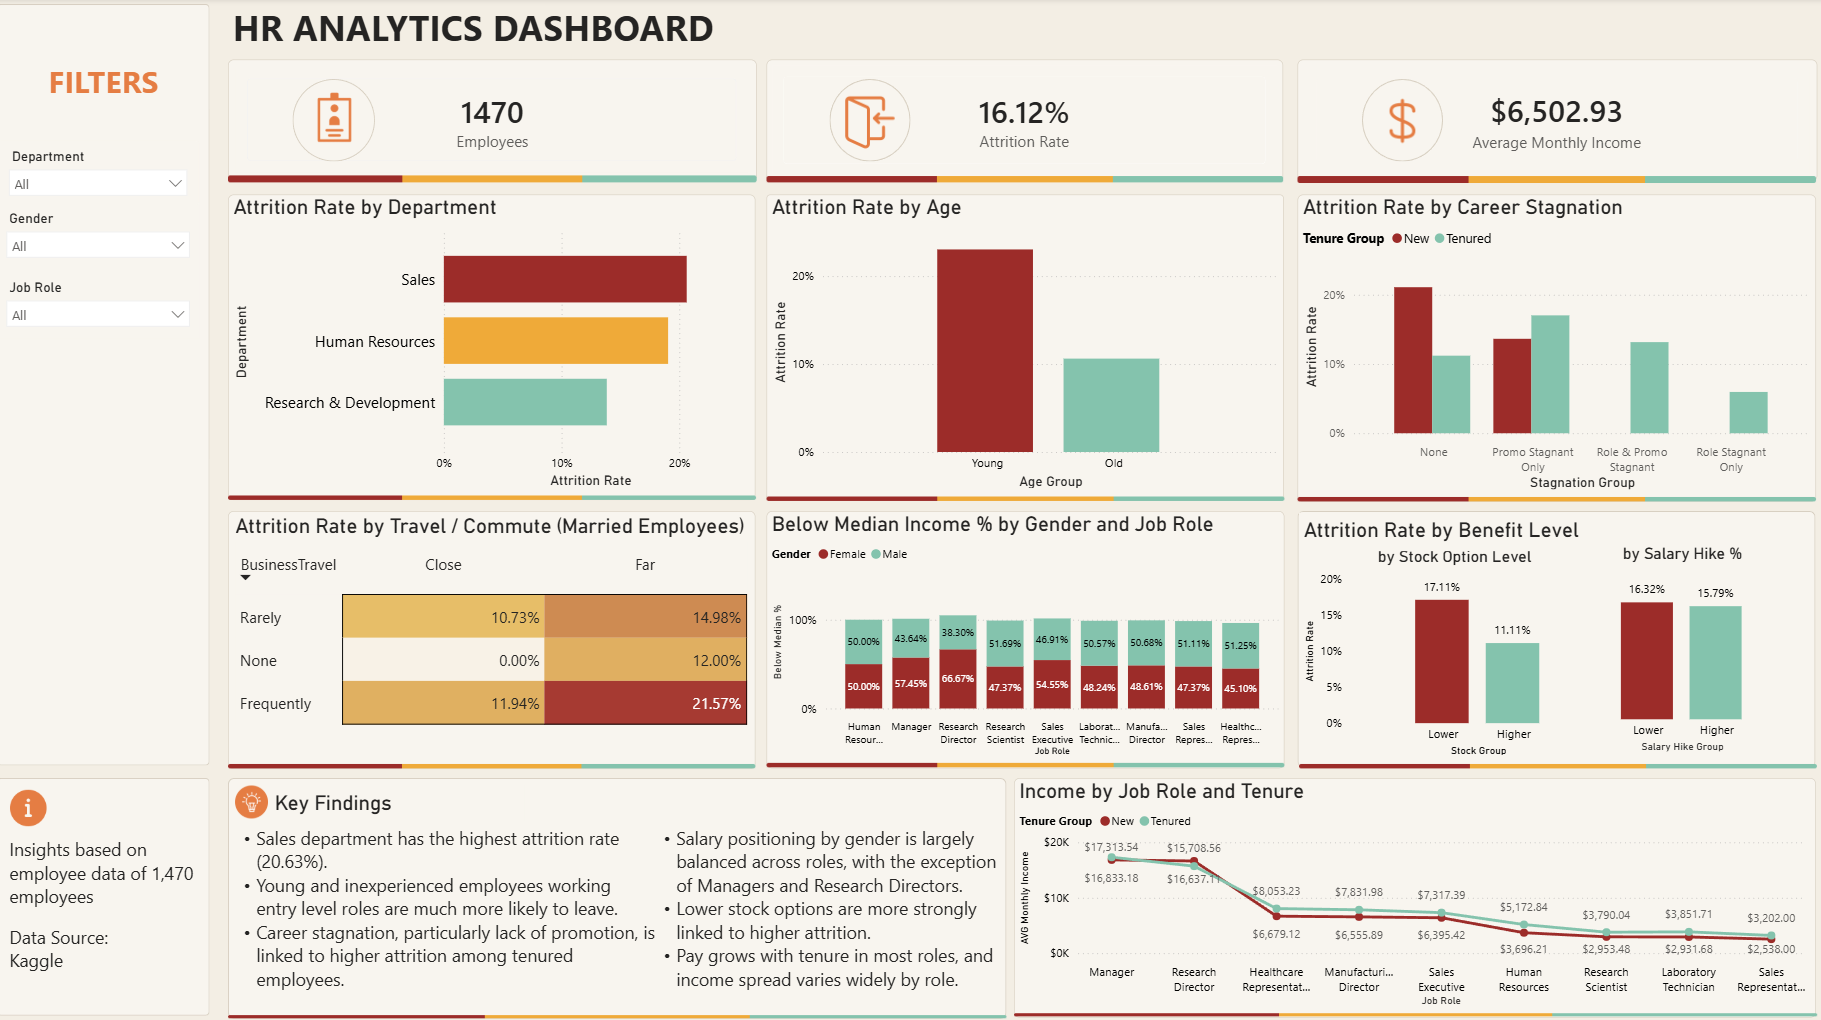

The dashboard page shown, as its layout file describes it:
{"tool":"powerbi","page":{"name":"Page 1","canvas":[1920,1080],"ordinal":0},"visuals":[{"type":"shape","box":[0,6.4,223.6,800.9],"z":0},{"type":"cardVisual","fields":{"Data":["Avg(HR.MonthlyIncome)"]},"box":[1367.2,64.4,546.6,128],"z":0,"group":"g14"},{"type":"cardVisual","title":"Total Employees","fields":{"Data":["HR.Total Employees"]},"box":[242.9,64.7,556,128],"z":0,"group":"g7"},{"type":"cardVisual","fields":{"Data":["HR.Attrition Rate"]},"box":[809.2,64.7,543,128.5],"z":0,"group":"g6"},{"type":"shape","box":[875.5,85.2,85.2,86.8],"z":0,"group":"g18"},{"type":"shape","box":[1435.5,85.2,85.2,86.8],"z":0,"group":"g19"},{"type":"group","id":"g1","title":"Group 4","box":[243.6,206.6,554.5,321.3],"z":0,"group":"g10"},{"type":"clusteredBarChart","title":"Attrition Rate by Department","fields":{"Category":["HR.Department"],"Y":["HR.Attrition Rate"]},"box":[243.6,206.6,554.5,321.3],"z":0,"group":"g1"},{"type":"group","id":"g2","title":"Group 5","box":[1367.8,206.6,545.6,323.1],"z":0,"group":"g11"},{"type":"clusteredColumnChart","title":"Attrition Rate by Career Stagnation","fields":{"Y":["HR.Attrition Rate"],"Series":["HR.Tenure Group"],"Category":["HR.Stagnation Group"]},"box":[1367.8,206.6,545.6,323.1],"z":0,"group":"g2"},{"type":"group","id":"g3","title":"Group 8","box":[243.1,539.5,554.7,271.4],"z":0,"group":"g8"},{"type":"pivotTable","title":"Attrition Rate by Travel / Commute (Married Employees)","fields":{"Values":["HR.Attrition Rate"],"Columns":["HR.Commute Group"],"Rows":["HR.BusinessTravel"]},"box":[243.1,539.5,554.7,271.4],"z":0,"group":"g3"},{"type":"group","id":"g4","title":"Group 6","box":[1367.6,539.5,544.8,269.7],"z":0,"group":"g9"},{"type":"shape","box":[1367.6,539.5,544.8,269.7],"z":0,"group":"g4"},{"type":"group","id":"g5","title":"Group 7","box":[1069.1,820,843.1,252.3],"z":0,"group":"g12"},{"type":"lineChart","title":"Income by Job Role and Tenure","fields":{"Category":["HR.JobRole"],"Y":["Avg(HR.MonthlyIncome)"],"Series":["HR.Tenure Group"]},"box":[1069.1,820,843.1,252.3],"z":0,"group":"g5"},{"type":"shape","title":"KEY FINNGS","box":[243.2,820.3,818.6,253.1],"z":0,"group":"g13"},{"type":"image","box":[883.4,97.8,69.4,66.3],"z":1000,"group":"g18"},{"type":"slicer","fields":{"Values":["HR.Department"]},"box":[0,149.2,212.5,68.3],"z":1000},{"type":"image","box":[1367.4,184,545.1,12.5],"z":1000,"group":"g14"},{"type":"image","box":[243.1,185,555.9,11.7],"z":1000,"group":"g7"},{"type":"image","box":[809.2,185,543,11.8],"z":1000,"group":"g6"},{"type":"columnChart","title":"Attrition Rate by Age","fields":{"Category":["HR.Age Group"],"Y":["HR.Attrition Rate"]},"box":[809.4,206.6,544.2,321.8],"z":1000,"group":"g15"},{"type":"image","box":[242.9,516,555.1,18.7],"z":1000,"group":"g10"},{"type":"image","box":[1367.6,517.1,545.6,19.2],"z":1000,"group":"g11"},{"type":"clusteredColumnChart","title":"by Stock Option Level","fields":{"Y":["HR.Attrition Rate"],"Category":["HR.Stock Group"]},"box":[1369.7,577.2,327.3,230.9],"z":1000,"group":"g4"},{"type":"image","box":[1368.6,797.9,544.8,19.3],"z":1000,"group":"g9"},{"type":"image","box":[242.9,798.3,554.6,19],"z":1000,"group":"g8"},{"type":"image","box":[242.9,1061.3,818.6,19],"z":1000,"group":"g13"},{"type":"image","box":[1069.2,1062.1,844.5,15.1],"z":1000,"group":"g12"},{"type":"slicer","fields":{"Values":["HR.JobRole"]},"box":[0,290,212.5,67.5],"z":2000},{"type":"clusteredColumnChart","title":"by Salary Hike %","fields":{"Y":["HR.Attrition Rate"],"Category":["HR.Salary Hike Group"]},"box":[1637,574.5,270,230],"z":2000,"group":"g4"},{"type":"slicer","fields":{"Values":["HR.Gender"]},"box":[0,217.5,212.5,72.5],"z":3000},{"type":"textbox","box":[1368.8,540.9,320,40.9],"z":3000,"group":"g4"},{"type":"textbox","box":[243.3,0,586.7,67.8],"z":4000},{"type":"group","id":"g6","title":"Group 2","box":[809.2,64.7,548,132.5],"z":5000},{"type":"group","id":"g7","title":"Group 1","box":[242.9,64.7,555.3,132.5],"z":6000},{"type":"textbox","box":[0,59.2,224.2,56.7],"z":7000},{"type":"group","id":"g8","title":"Group 9","box":[242.9,539.5,555.3,277.6],"z":8000},{"type":"group","id":"g9","title":"Group 10","box":[1367.6,539.5,545.8,277.6],"z":9000},{"type":"group","id":"g10","title":"Group 11","box":[242.9,206.6,555.3,328.1],"z":10000},{"type":"group","id":"g11","title":"Group 12","box":[1367.6,206.6,545.8,329.7],"z":11000},{"type":"group","id":"g12","title":"Group 13","box":[1069.1,820,844.5,257.3],"z":12000},{"type":"group","id":"g13","title":"Group 14","box":[242.9,820.3,818.7,260.3],"z":13000},{"type":"image","box":[809.2,513.8,544.7,24.6],"z":14000,"group":"g15"},{"type":"textbox","box":[244.5,870.9,448.2,192.7],"z":14000},{"type":"textbox","box":[287.3,828.2,267.3,36.4],"z":15000},{"type":"textbox","box":[686.4,870.9,375.5,190.9],"z":16000},{"type":"group","id":"g14","title":"Group 3","box":[1367.2,64.4,546.7,132.2],"z":17000},{"type":"columnChart","title":"Below Median Income % by Gender and Job Role","fields":{"Category":["HR.JobRole"],"Series":["HR.Gender"],"Y":["HR.Below Median %"]},"box":[809.2,540,544.7,270.3],"z":17000,"group":"g16"},{"type":"group","id":"g15","title":"Group 15","box":[809.2,206.6,544.2,331.3],"z":18000},{"type":"image","box":[809.7,796.1,544.5,23.9],"z":18000,"group":"g16"},{"type":"group","id":"g16","title":"Group 16","box":[809.2,540,545,280],"z":19000},{"type":"group","id":"g17","title":"Group 17","box":[310.8,85.2,86.8,86.8],"z":20000},{"type":"shape","box":[310.8,85.2,86.8,86.8],"z":20000,"group":"g17"},{"type":"group","id":"g18","title":"Group 18","box":[875.5,85.2,85.2,86.8],"z":21000},{"type":"image","box":[320.3,91.5,69.4,67.8],"z":21000,"group":"g17"},{"type":"group","id":"g19","title":"Group 18","box":[1435.5,85.2,85.2,86.8],"z":22000},{"type":"image","box":[1443.4,96.2,69.4,66.3],"z":23000},{"type":"shape","box":[0,820,223.6,250],"z":24000},{"type":"textbox","box":[8.2,876.4,214.5,181.8],"z":25000},{"type":"image","box":[8.2,828.2,50,47.3],"z":26000},{"type":"image","box":[247.3,828.2,40,34.5],"z":27000}]}

Visuals, with their boxes in screenshot pixels (x1, y1, x2, y2), scaled from the page's 1920x1080 canvas onto the 1821x1020 screenshot:
shape: (x1=0, y1=6, x2=212, y2=762)
cardVisual - Avg(HR.MonthlyIncome): (x1=1297, y1=61, x2=1815, y2=182)
"Total Employees" cardVisual: (x1=230, y1=61, x2=758, y2=182)
cardVisual - HR.Attrition Rate: (x1=767, y1=61, x2=1282, y2=182)
shape: (x1=830, y1=80, x2=911, y2=162)
shape: (x1=1361, y1=80, x2=1442, y2=162)
"Group 4" group: (x1=231, y1=195, x2=757, y2=499)
"Attrition Rate by Department" clusteredBarChart: (x1=231, y1=195, x2=757, y2=499)
"Group 5" group: (x1=1297, y1=195, x2=1815, y2=500)
"Attrition Rate by Career Stagnation" clusteredColumnChart: (x1=1297, y1=195, x2=1815, y2=500)
"Group 8" group: (x1=231, y1=510, x2=757, y2=766)
"Attrition Rate by Travel / Commute (Married Employees)" pivotTable: (x1=231, y1=510, x2=757, y2=766)
"Group 6" group: (x1=1297, y1=510, x2=1814, y2=764)
shape: (x1=1297, y1=510, x2=1814, y2=764)
"Group 7" group: (x1=1014, y1=774, x2=1814, y2=1013)
"Income by Job Role and Tenure" lineChart: (x1=1014, y1=774, x2=1814, y2=1013)
"KEY FINNGS" shape: (x1=231, y1=775, x2=1007, y2=1014)
image: (x1=838, y1=92, x2=904, y2=155)
slicer - HR.Department: (x1=0, y1=141, x2=202, y2=205)
image: (x1=1297, y1=174, x2=1814, y2=186)
image: (x1=231, y1=175, x2=758, y2=186)
image: (x1=767, y1=175, x2=1282, y2=186)
"Attrition Rate by Age" columnChart: (x1=768, y1=195, x2=1284, y2=499)
image: (x1=230, y1=487, x2=757, y2=505)
image: (x1=1297, y1=488, x2=1815, y2=507)
"by Stock Option Level" clusteredColumnChart: (x1=1299, y1=545, x2=1609, y2=763)
image: (x1=1298, y1=754, x2=1815, y2=772)
image: (x1=230, y1=754, x2=756, y2=772)
image: (x1=230, y1=1002, x2=1007, y2=1019)
image: (x1=1014, y1=1003, x2=1815, y2=1017)
slicer - HR.JobRole: (x1=0, y1=274, x2=202, y2=338)
"by Salary Hike %" clusteredColumnChart: (x1=1553, y1=543, x2=1809, y2=760)
slicer - HR.Gender: (x1=0, y1=205, x2=202, y2=274)
textbox: (x1=1298, y1=511, x2=1602, y2=549)
textbox: (x1=231, y1=0, x2=787, y2=64)
"Group 2" group: (x1=767, y1=61, x2=1287, y2=186)
"Group 1" group: (x1=230, y1=61, x2=757, y2=186)
textbox: (x1=0, y1=56, x2=213, y2=109)
"Group 9" group: (x1=230, y1=510, x2=757, y2=772)
"Group 10" group: (x1=1297, y1=510, x2=1815, y2=772)
"Group 11" group: (x1=230, y1=195, x2=757, y2=505)
"Group 12" group: (x1=1297, y1=195, x2=1815, y2=507)
"Group 13" group: (x1=1014, y1=774, x2=1815, y2=1017)
"Group 14" group: (x1=230, y1=775, x2=1007, y2=1019)
image: (x1=767, y1=485, x2=1284, y2=508)
textbox: (x1=232, y1=823, x2=657, y2=1005)
textbox: (x1=272, y1=782, x2=526, y2=817)
textbox: (x1=651, y1=823, x2=1007, y2=1003)
"Group 3" group: (x1=1297, y1=61, x2=1815, y2=186)
"Below Median Income % by Gender and Job Role" columnChart: (x1=767, y1=510, x2=1284, y2=765)
"Group 15" group: (x1=767, y1=195, x2=1284, y2=508)
image: (x1=768, y1=752, x2=1284, y2=774)
"Group 16" group: (x1=767, y1=510, x2=1284, y2=774)
"Group 17" group: (x1=295, y1=80, x2=377, y2=162)
shape: (x1=295, y1=80, x2=377, y2=162)
"Group 18" group: (x1=830, y1=80, x2=911, y2=162)
image: (x1=304, y1=86, x2=370, y2=150)
"Group 18" group: (x1=1361, y1=80, x2=1442, y2=162)
image: (x1=1369, y1=91, x2=1435, y2=153)
shape: (x1=0, y1=774, x2=212, y2=1011)
textbox: (x1=8, y1=828, x2=211, y2=999)
image: (x1=8, y1=782, x2=55, y2=827)
image: (x1=235, y1=782, x2=272, y2=815)
